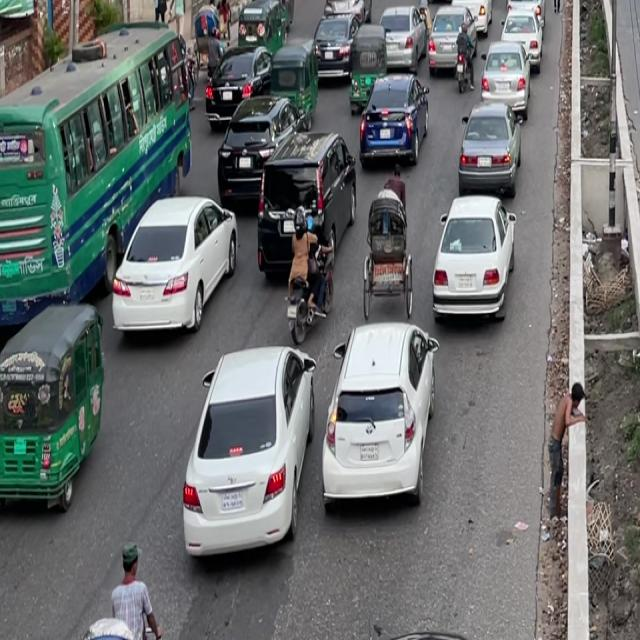car: (170, 332, 324, 574), (314, 306, 446, 520), (102, 172, 243, 350), (426, 181, 522, 337), (218, 67, 316, 194), (357, 66, 428, 176), (453, 93, 522, 203), (478, 38, 532, 124), (309, 2, 360, 87), (424, 0, 469, 85), (376, 0, 424, 74), (501, 0, 543, 69), (316, 0, 372, 34), (450, 0, 492, 38), (505, 0, 544, 6)
motorbike: (280, 223, 338, 344)
rickshaw: (0, 290, 113, 524), (265, 40, 319, 140), (347, 24, 385, 111), (426, 0, 458, 6)
